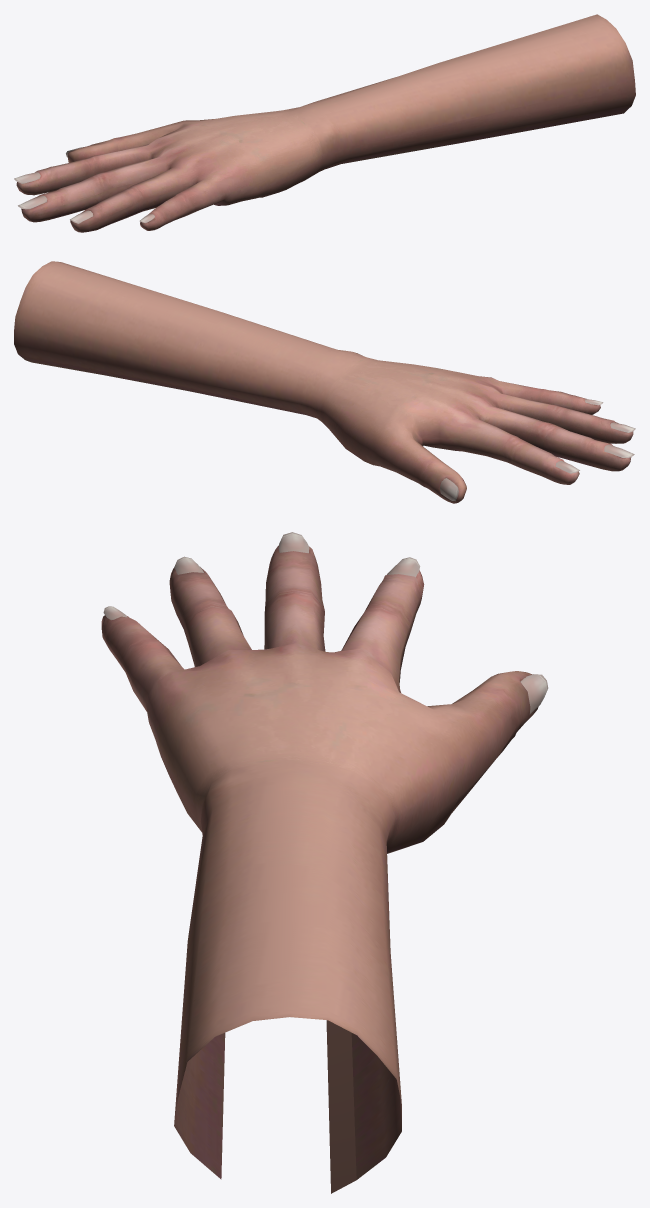
The model's file is majiang_s.FBX.
3 views of the same model, one above another, from view 1: azimuth 30°, elevation 25°; view 2: azimuth 150°, elevation 25°; view 3: azimuth 270°, elevation 25° (orthographic). The views are drawn at different scales.
Parts seen in each view (by area): view 1: shou_01; view 2: shou_01; view 3: shou_01.
Part boxes in pixels (<box>): shou_01: <box>14,14,635,232</box>; shou_01: <box>14,261,635,503</box>; shou_01: <box>101,532,548,1193</box>.
Bounding box in the file's own units: 453 × 65 × 149.
